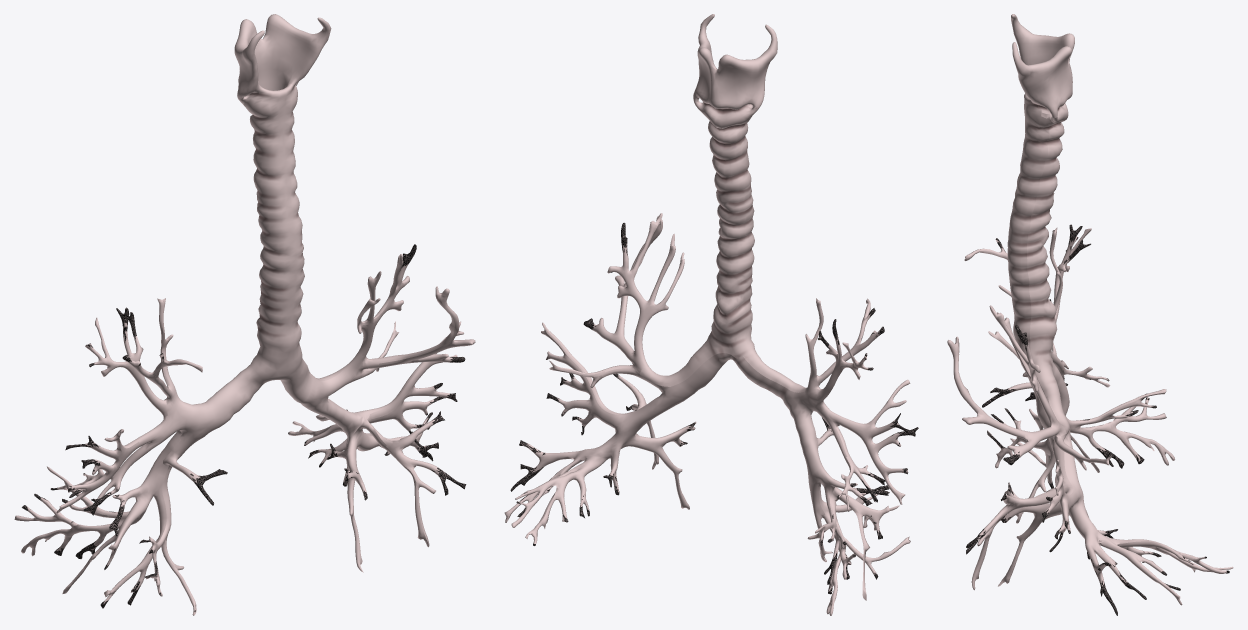
File: lungs_4_trachea.fbx
3 renders of one model, left to right at view 1: azimuth 30°, elevation 25°; view 2: azimuth 150°, elevation 25°; view 3: azimuth 270°, elevation 25°, orthographic. The views are drawn at different scales.
Parts seen in each view (by area): view 1: Trachea; view 2: Trachea; view 3: Trachea.
Boxes of the visible parts, bbox=[...] form: Trachea: bbox=[14, 14, 475, 615]; Trachea: bbox=[504, 14, 918, 615]; Trachea: bbox=[947, 14, 1233, 615].
Bounding box in the file's own units: 16.18 × 21.89 × 10.51.
